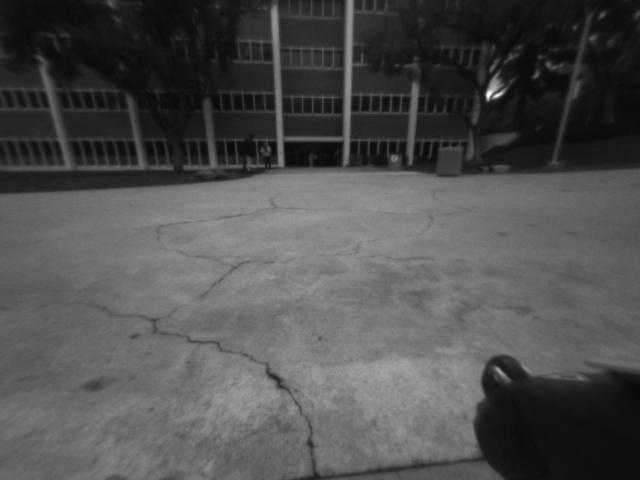trashcan: (436, 142, 463, 177), (387, 149, 407, 174)
